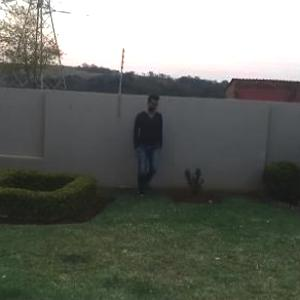follow: (130, 92, 162, 198)
